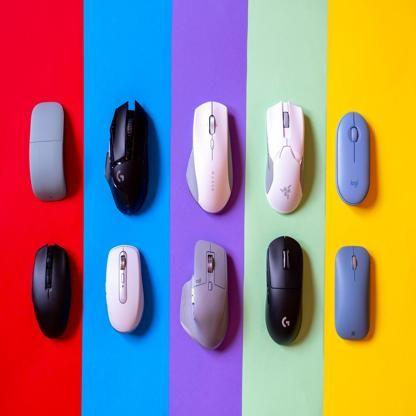not trash: (99, 99, 161, 221), (254, 96, 315, 218), (183, 94, 236, 216), (181, 237, 236, 351), (23, 240, 81, 346), (27, 97, 73, 210), (334, 98, 375, 219), (264, 236, 309, 346), (335, 244, 374, 348), (105, 244, 144, 334)
